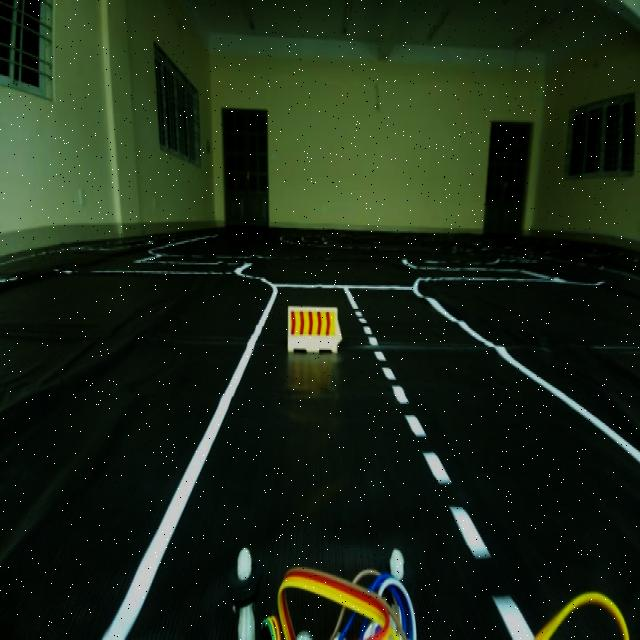roadblock: (283, 294, 348, 373)
